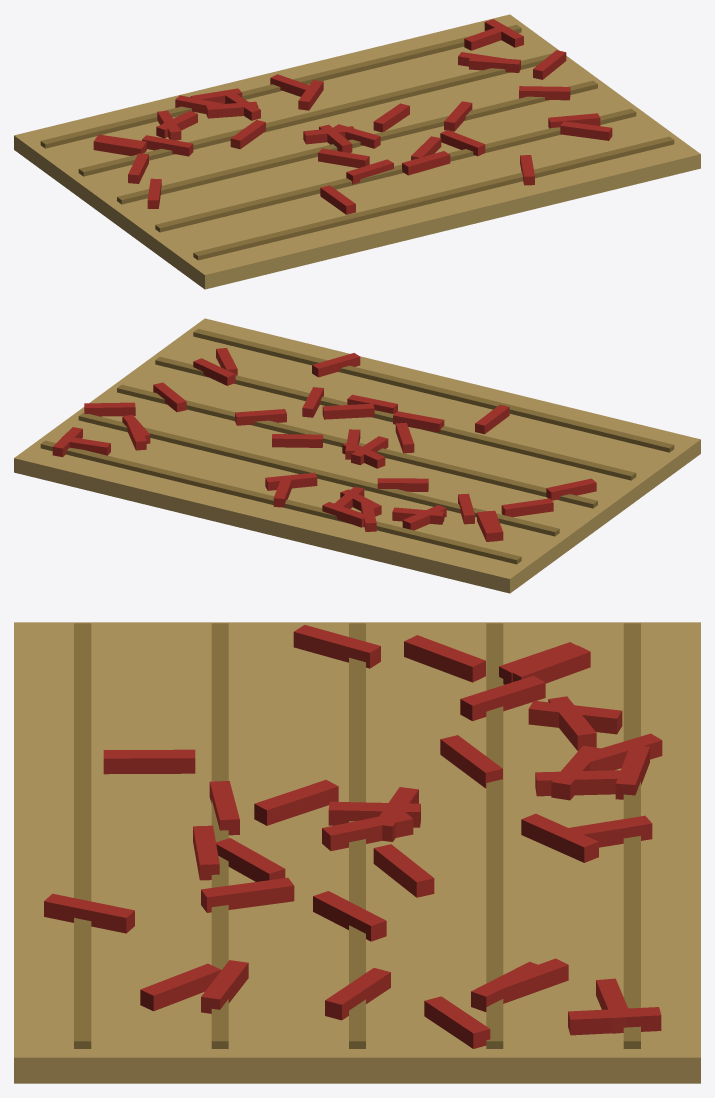
File: prop_life_chili_mat.glb
3 renders of one model, top to bottom at view 1: azimuth 30°, elevation 25°; view 2: azimuth 150°, elevation 25°; view 3: azimuth 270°, elevation 25°, orthographic. The views are drawn at different scales.
Visible parts, largest first — view 1: prop_life_chili_mat; view 2: prop_life_chili_mat; view 3: prop_life_chili_mat.
Part boxes in pixels (x1,y1,x2,y2): prop_life_chili_mat: [14, 14, 700, 289]; prop_life_chili_mat: [14, 318, 700, 593]; prop_life_chili_mat: [14, 622, 700, 1083].
Bounding box in the file's own units: 1.8 × 0.085 × 1.2.
